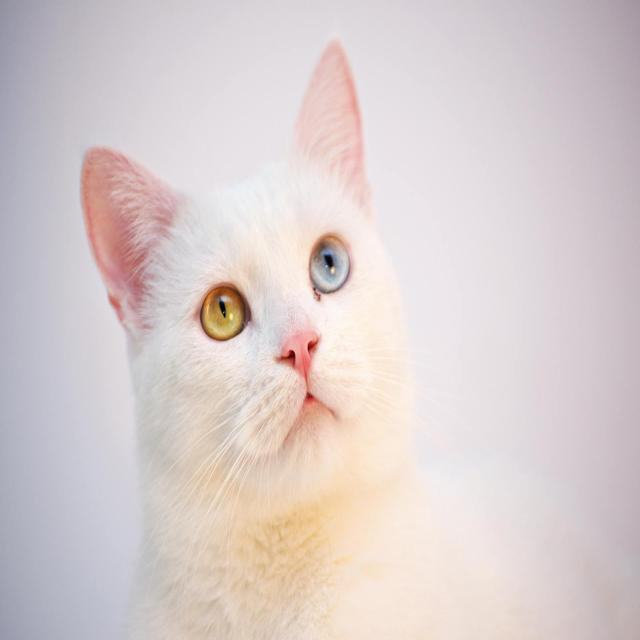Cat: (78, 36, 459, 638)
